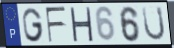6: (94, 5, 118, 44), (119, 5, 142, 43)
F: (44, 6, 68, 44)
G: (21, 6, 45, 43)
H: (69, 7, 94, 43)
U: (141, 6, 166, 43)
